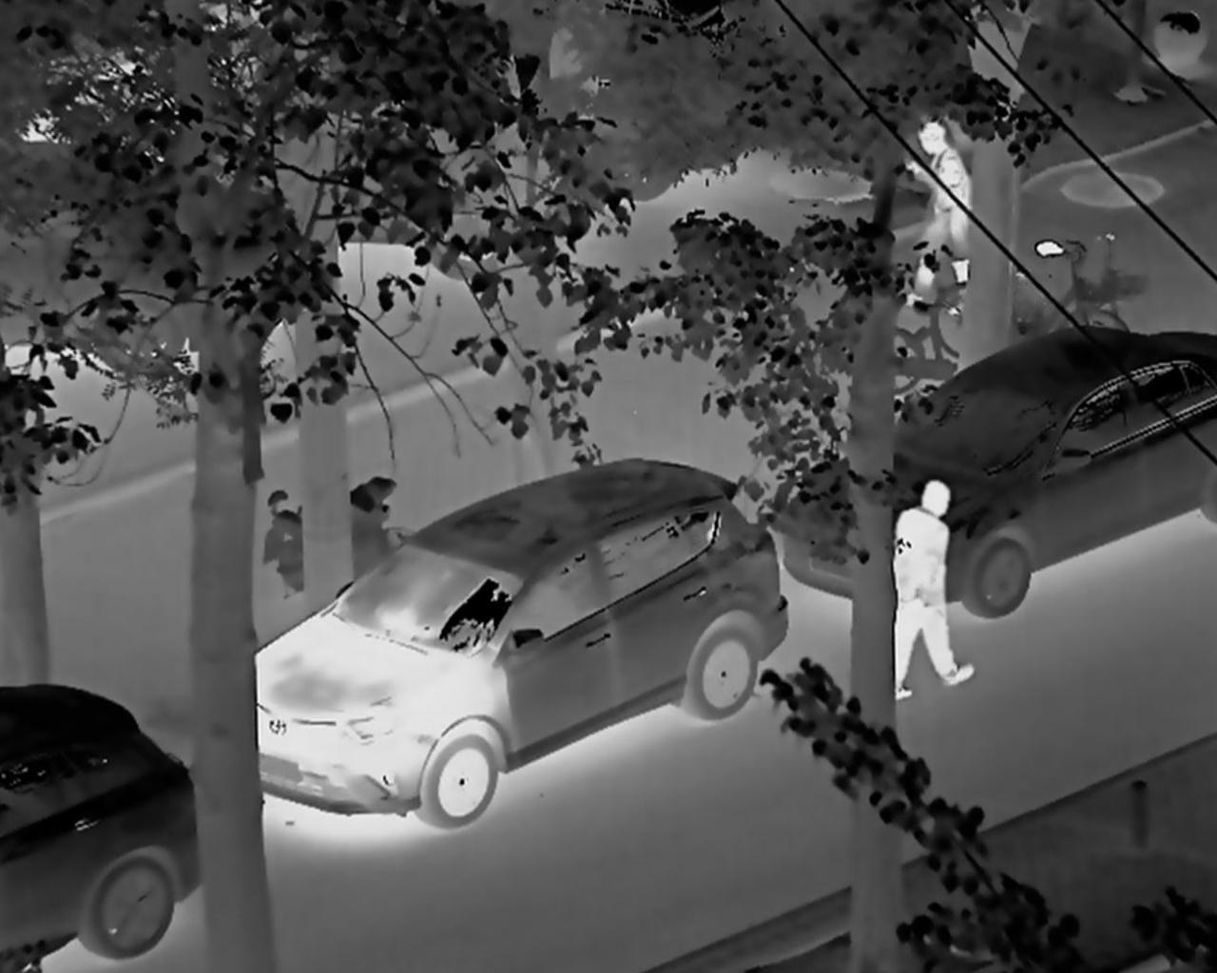person: (897, 469, 988, 732), (903, 93, 976, 322)
